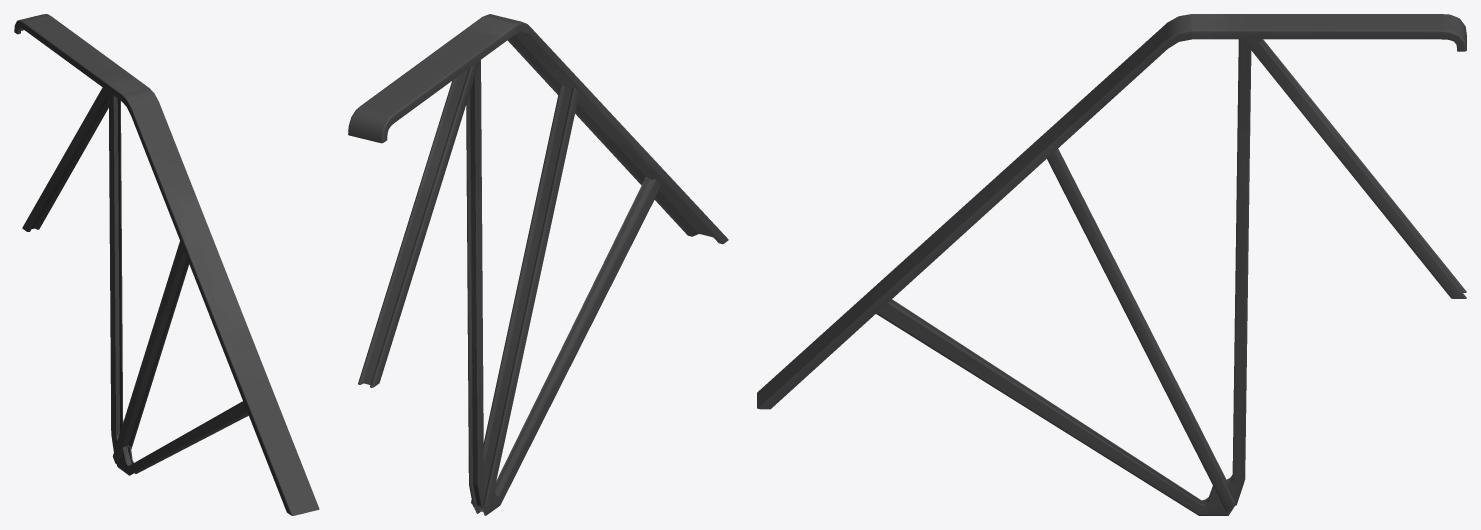
File: EN_W_fence4.fbx
The picture shows the model from 3 angles, left to right: view 1: azimuth 30°, elevation 25°; view 2: azimuth 150°, elevation 25°; view 3: azimuth 270°, elevation 25°; orthographic projection. The views are drawn at different scales.
Visible parts, largest first — view 1: EN_W_fence4; view 2: EN_W_fence4; view 3: EN_W_fence4.
Boxes of the visible parts, left/top/right/bottom form: EN_W_fence4: left=14, top=14, right=319, bottom=515; EN_W_fence4: left=348, top=14, right=728, bottom=515; EN_W_fence4: left=757, top=14, right=1466, bottom=515.
Size of the model in its own units: 17.96 by 234 by 306.
